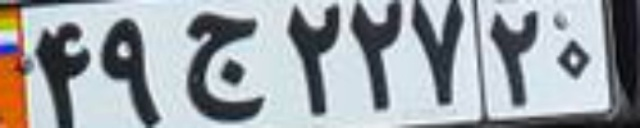0: (553, 39, 592, 79)
2: (284, 3, 342, 116), (351, 0, 407, 111), (488, 9, 540, 106)
4: (35, 21, 92, 127)
7: (411, 0, 464, 107)
9: (98, 16, 164, 125)
jim: (177, 12, 268, 123)
